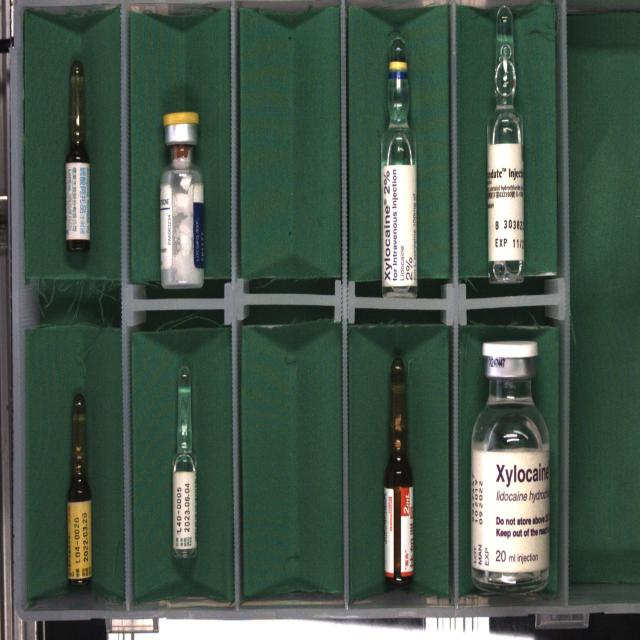Vials: (471, 341, 550, 592), (160, 111, 204, 287)
